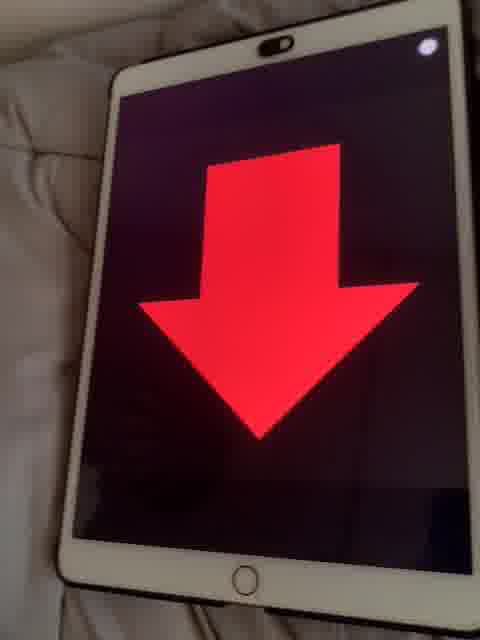down: (133, 135, 432, 445)
